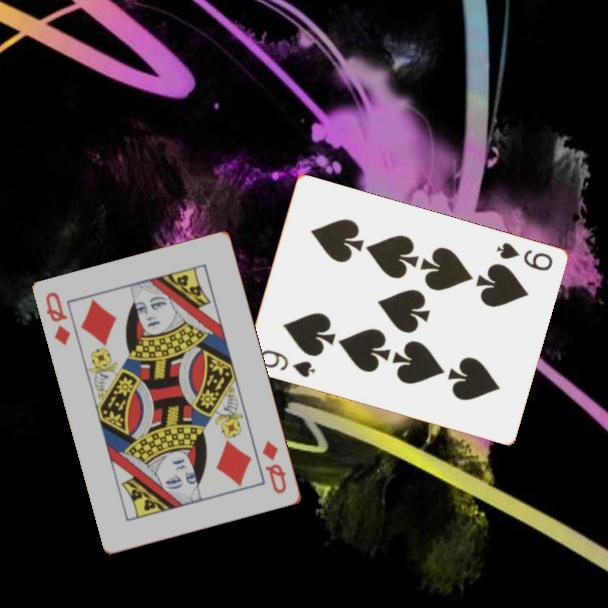d12: (42, 289, 74, 349), (259, 437, 290, 497)
s09: (255, 346, 318, 381), (493, 239, 555, 274)
